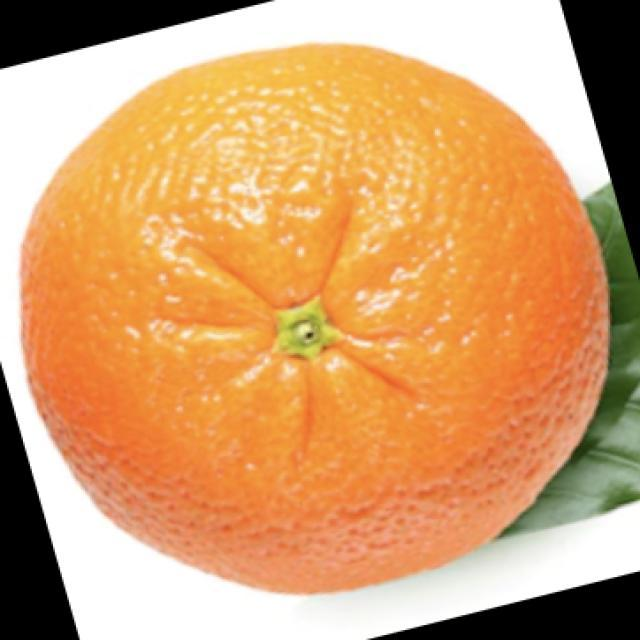Orange: (18, 40, 612, 595)
